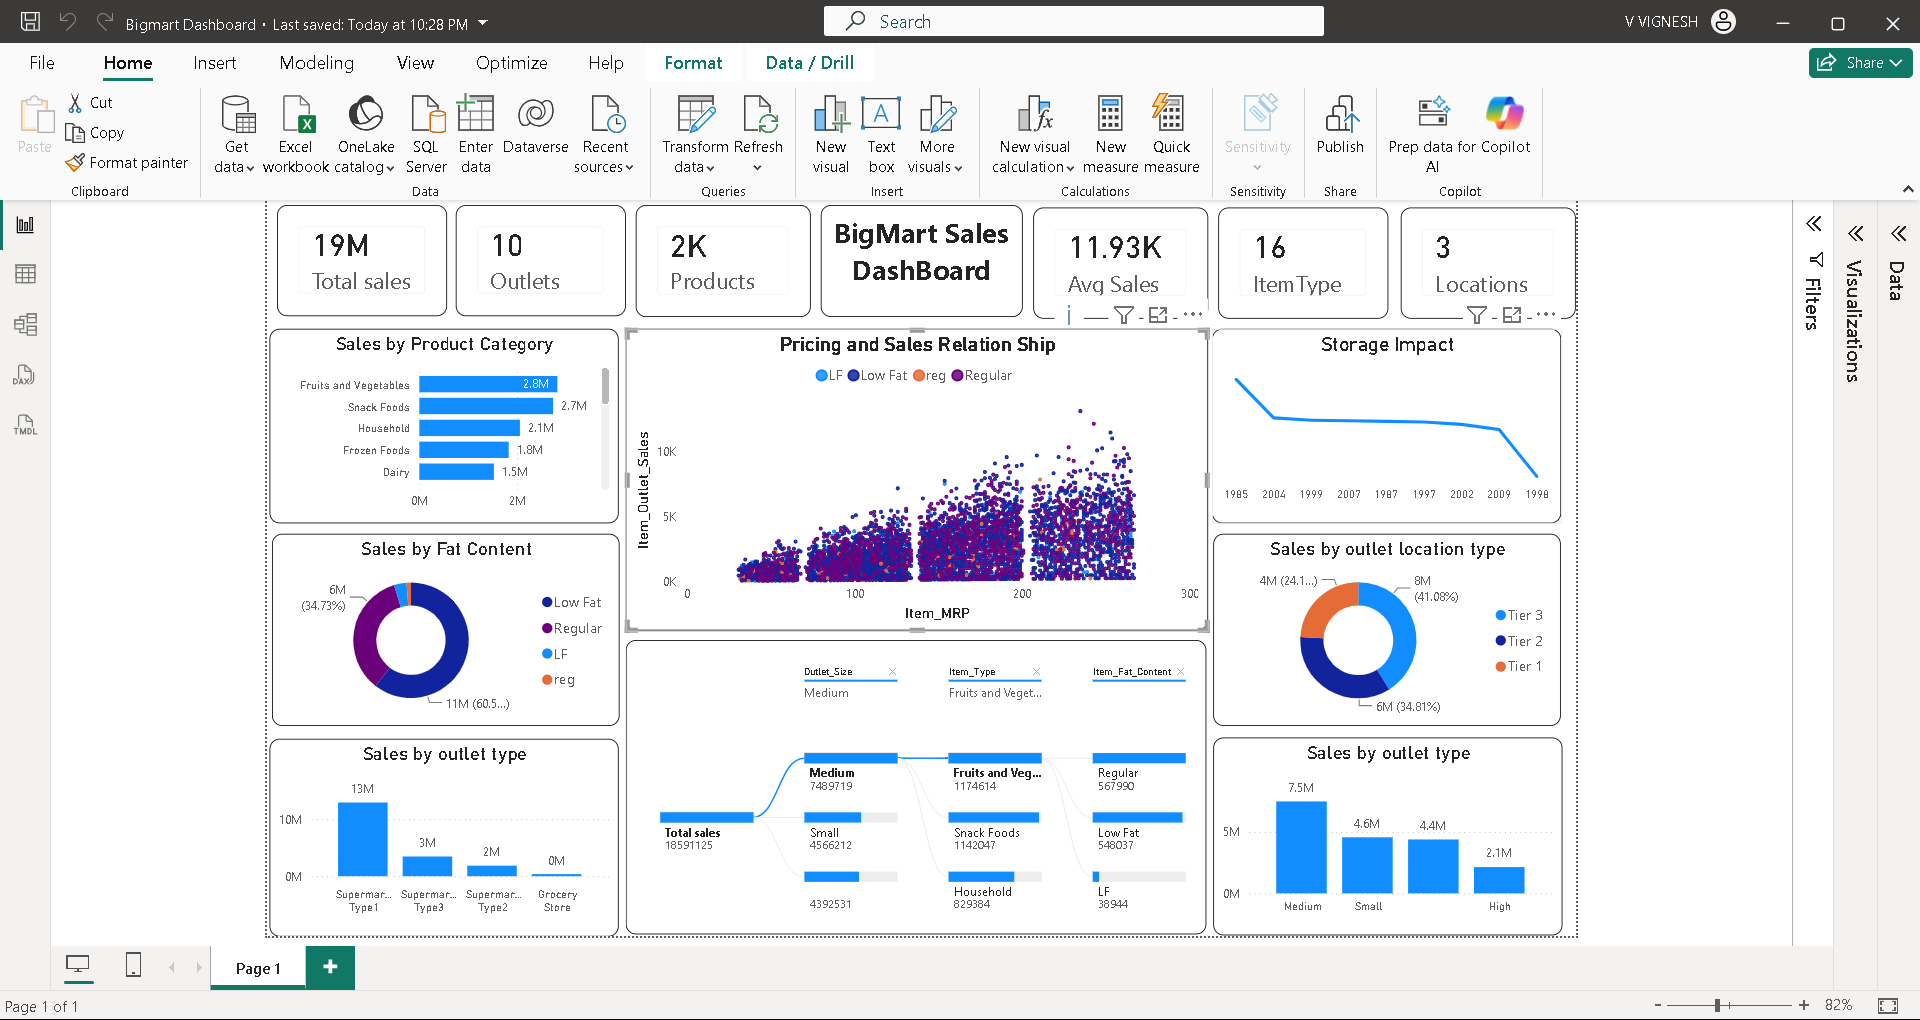

The page's visual inventory and layout, read from the dashboard file:
{"tool":"powerbi","page":{"name":"Page 1","canvas":[1280,720],"ordinal":0},"visuals":[{"type":"textbox","box":[542,5.5,197.6,109.8],"z":0},{"type":"cardVisual","fields":{"Data":["bigmart.Total sales"]},"box":[9.6,5.5,166,108.4],"z":1000},{"type":"cardVisual","fields":{"Data":["bigmart.Total products"]},"box":[360.9,5.5,171.5,109.8],"z":2000},{"type":"cardVisual","fields":{"Data":["Count(bigmart.Outlet_Identifier)"]},"box":[185.2,5.5,166,108.4],"z":3000},{"type":"cardVisual","fields":{"Data":["Count(bigmart.Item_Type)"]},"box":[930.4,6.9,166,108.4],"z":4000},{"type":"cardVisual","fields":{"Data":["bigmart.Avg sales per product"]},"box":[749.2,6.9,171.5,108.4],"z":5000},{"type":"cardVisual","fields":{"Data":["Count(bigmart.Outlet_Location_Type)"]},"box":[1108.8,6.9,171.5,108.4],"z":6000},{"type":"clusteredBarChart","title":"Sales by Product Category","fields":{"Category":["bigmart.Item_Type"],"Y":["bigmart.Total sales"]},"box":[2.7,126.2,341.7,190.7],"z":7000},{"type":"donutChart","title":"Sales by Fat Content","fields":{"Category":["bigmart.Item_Fat_Content"],"Y":["bigmart.Total sales"]},"box":[5.5,326.6,340.3,188],"z":8000},{"type":"columnChart","title":"Sales by outlet type","fields":{"Y":["bigmart.Total sales"],"Category":["bigmart.Outlet_Type"]},"box":[2.7,526.9,341.7,193.5],"z":9000},{"type":"lineChart","title":"Storage Impact","fields":{"Y":["bigmart.Total sales"],"Category":["bigmart.Outlet_Establishment_Year"]},"box":[924.9,126.2,341.7,190.7],"z":9001},{"type":"donutChart","title":"Sales by outlet location type","fields":{"Y":["bigmart.Total sales"],"Category":["bigmart.Outlet_Location_Type"]},"box":[926.2,326.6,340.3,188],"z":9002},{"type":"clusteredColumnChart","title":"Sales by outlet type","fields":{"Category":["bigmart.Outlet_Size"],"Y":["bigmart.Total sales"]},"box":[926.2,525.6,341.7,193.5],"z":9003},{"type":"scatterChart","title":"Pricing and Sales Relation Ship","fields":{"X":["bigmart.Item_MRP"],"Y":["bigmart.Item_Outlet_Sales"],"Series":["bigmart.Item_Fat_Content"]},"box":[351.3,126.2,569.5,295],"z":9004},{"type":"decompositionTreeVisual","fields":{"Analyze":["bigmart.Total sales"],"ExplainBy":["bigmart.Outlet_Size","bigmart.Item_Type","bigmart.Item_Fat_Content"]},"box":[351.3,430.9,568.1,288.2],"z":9005}]}

Visuals, with their boxes on the page's 1280x720 design canvas (x1, y1, x2, y2). These are canvas units, not pixel positions in the 1920x1020 screenshot, which may show the page scaled, cropped or inside an application window:
textbox: (left=542, top=6, right=740, bottom=115)
cardVisual - bigmart.Total sales: (left=10, top=6, right=176, bottom=114)
cardVisual - bigmart.Total products: (left=361, top=6, right=532, bottom=115)
cardVisual - Count(bigmart.Outlet_Identifier): (left=185, top=6, right=351, bottom=114)
cardVisual - Count(bigmart.Item_Type): (left=930, top=7, right=1096, bottom=115)
cardVisual - bigmart.Avg sales per product: (left=749, top=7, right=921, bottom=115)
cardVisual - Count(bigmart.Outlet_Location_Type): (left=1109, top=7, right=1280, bottom=115)
"Sales by Product Category" clusteredBarChart: (left=3, top=126, right=344, bottom=317)
"Sales by Fat Content" donutChart: (left=6, top=327, right=346, bottom=515)
"Sales by outlet type" columnChart: (left=3, top=527, right=344, bottom=720)
"Storage Impact" lineChart: (left=925, top=126, right=1267, bottom=317)
"Sales by outlet location type" donutChart: (left=926, top=327, right=1266, bottom=515)
"Sales by outlet type" clusteredColumnChart: (left=926, top=526, right=1268, bottom=719)
"Pricing and Sales Relation Ship" scatterChart: (left=351, top=126, right=921, bottom=421)
decompositionTreeVisual - bigmart.Total sales x bigmart.Outlet_Size: (left=351, top=431, right=919, bottom=719)
